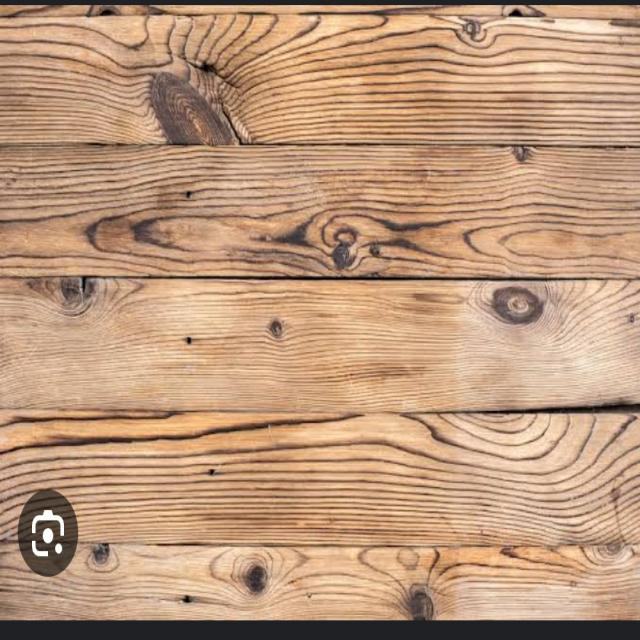others: (2, 2, 640, 624)
